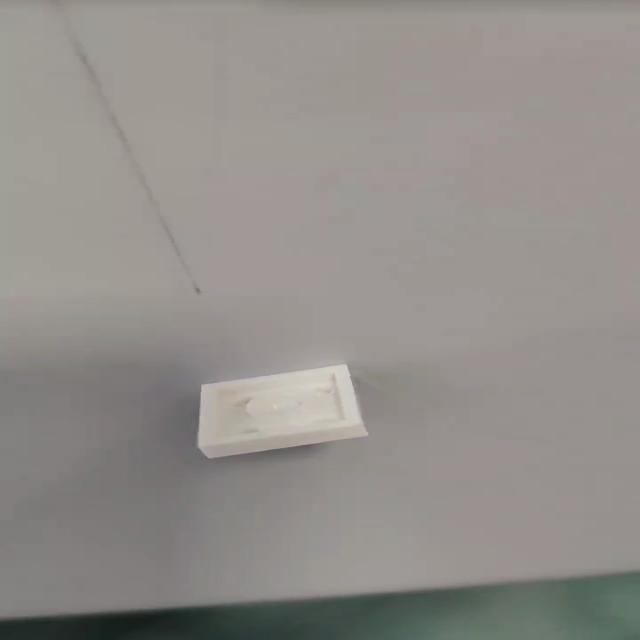C2x2x0: (193, 361, 373, 464)
